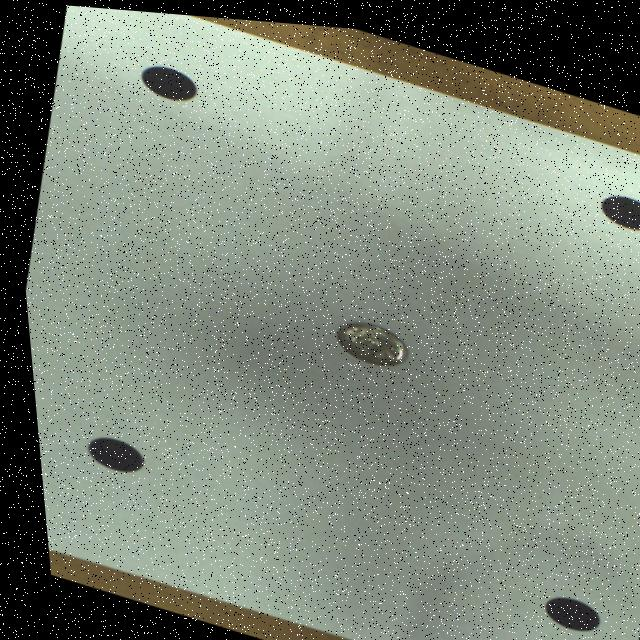head1bath: (331, 317, 400, 360)
space: (138, 63, 195, 98), (79, 436, 134, 471), (533, 588, 588, 622), (596, 185, 640, 219)
